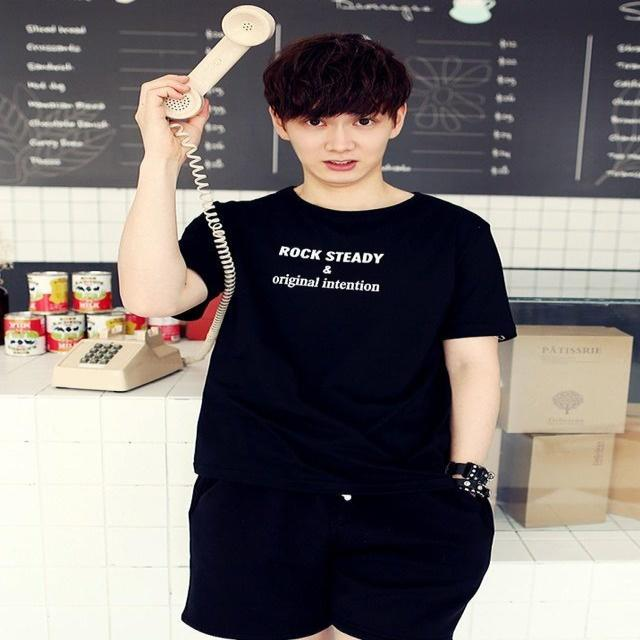short-sleeve-top: (200, 173, 529, 494)
